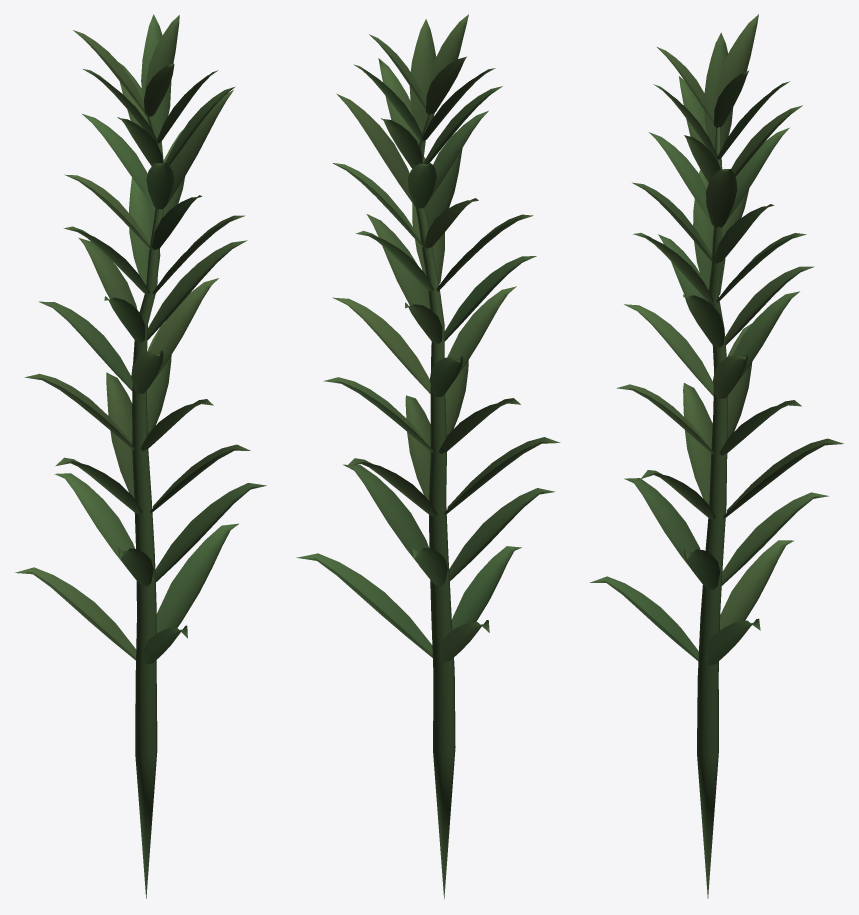
File: underwater-aquatic-plants-waterweed_v8.fbx
3 renders of one model, left to right at view 1: azimuth 30°, elevation 25°; view 2: azimuth 150°, elevation 25°; view 3: azimuth 270°, elevation 25°, orthographic.
Parts seen in each view (by area): view 1: Waterweed_v8; view 2: Waterweed_v8; view 3: Waterweed_v8.
Boxes of the visible parts, x1,y1,x2,y2 form: Waterweed_v8: (15, 14, 266, 898); Waterweed_v8: (296, 14, 560, 899); Waterweed_v8: (589, 14, 843, 898).
Bounding box in the file's own units: 0.162 × 0.6 × 0.161.
